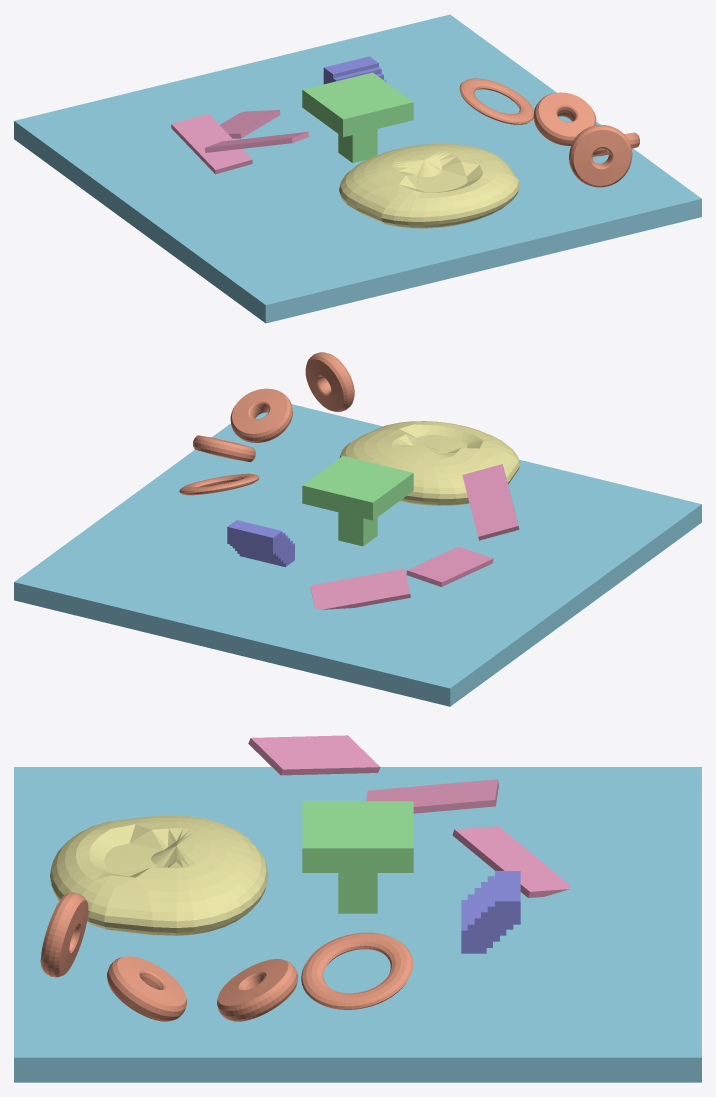
Rendered from testStage.fbx.
3 views of the same model, one above another, from view 1: azimuth 30°, elevation 25°; view 2: azimuth 150°, elevation 25°; view 3: azimuth 270°, elevation 25° (orthographic). The views are drawn at different scales.
Parts seen in each view (by area): view 1: 立方体.001; view 2: 立方体.001; view 3: 立方体.001.
Part boxes in pixels (bbox=[...]): 立方体.001: bbox=[14, 14, 701, 323]; 立方体.001: bbox=[14, 352, 701, 706]; 立方体.001: bbox=[14, 735, 701, 1082].
Size of the model in its own units: 27.91 by 5.89 by 27.91.
